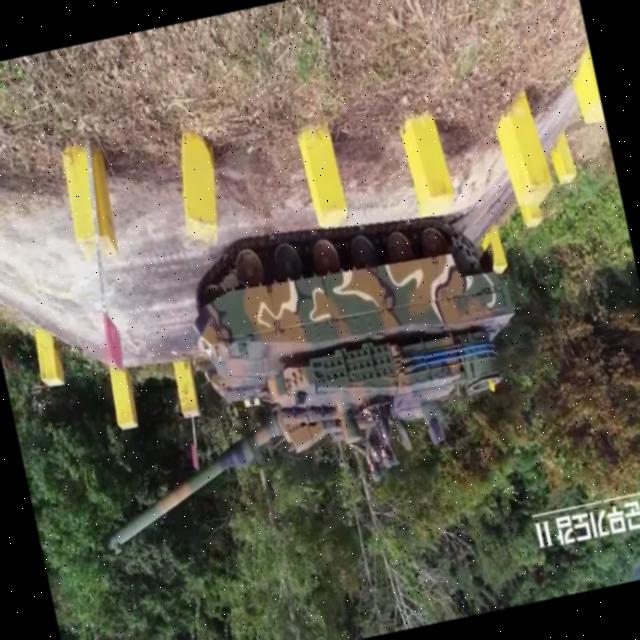korea tank: (49, 184, 551, 558)
